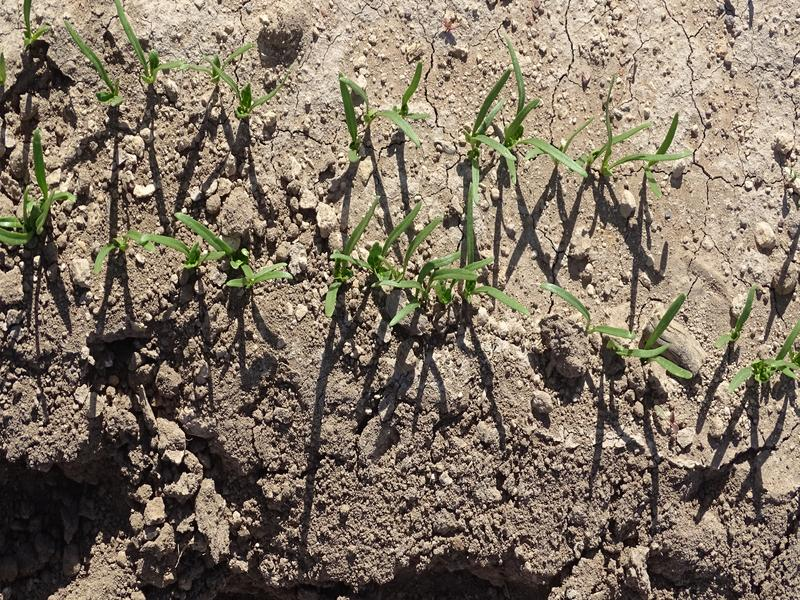Espinaca: (449, 58, 686, 202), (307, 206, 531, 331), (129, 208, 289, 297), (554, 277, 683, 378), (55, 3, 185, 93), (717, 296, 800, 393), (336, 63, 424, 153), (1, 138, 66, 235), (216, 54, 295, 128)
